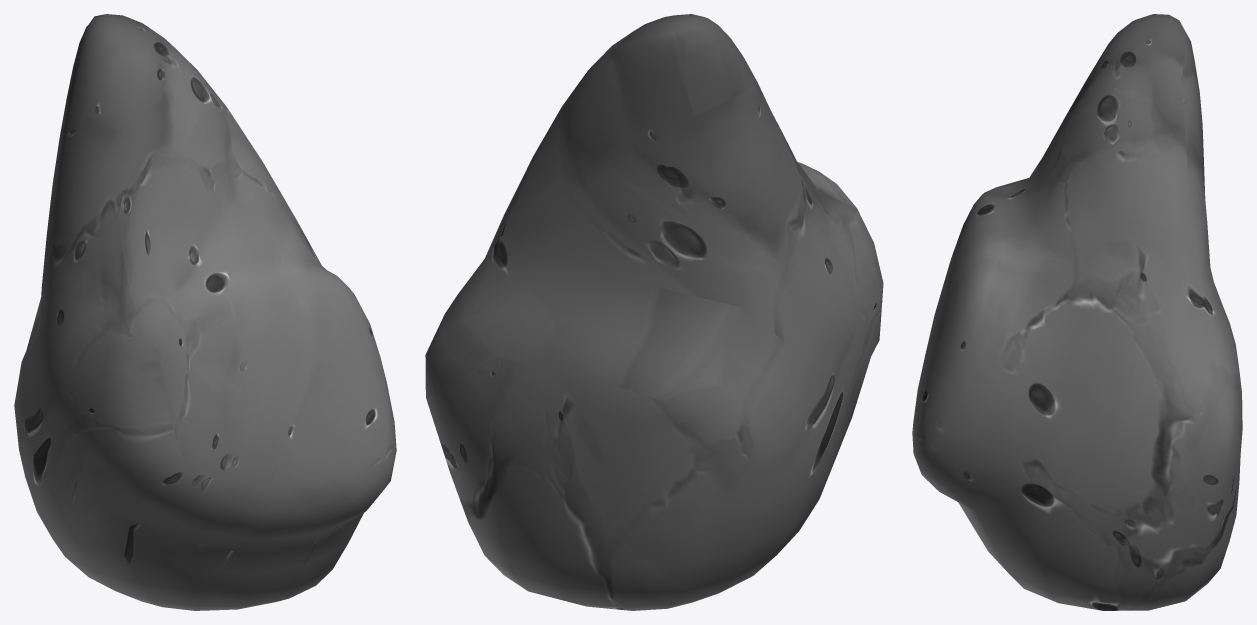
File: SM_ENV_stone_03.fbx
3 renders of one model, left to right at view 1: azimuth 30°, elevation 25°; view 2: azimuth 150°, elevation 25°; view 3: azimuth 270°, elevation 25°, orthographic. The views are drawn at different scales.
Visible parts, largest first — view 1: SM_ENV_stone_03_LOD0; view 2: SM_ENV_stone_03_LOD0; view 3: SM_ENV_stone_03_LOD0.
Boxes of the visible parts, left/top/right/bottom form: SM_ENV_stone_03_LOD0: left=14, top=14, right=396, bottom=610; SM_ENV_stone_03_LOD0: left=425, top=14, right=883, bottom=610; SM_ENV_stone_03_LOD0: left=912, top=14, right=1242, bottom=610.
Size of what is drawn, in the model's own units: 183 by 309 by 175.
